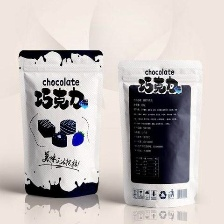snack: (112, 53, 208, 213), (12, 42, 108, 202)
